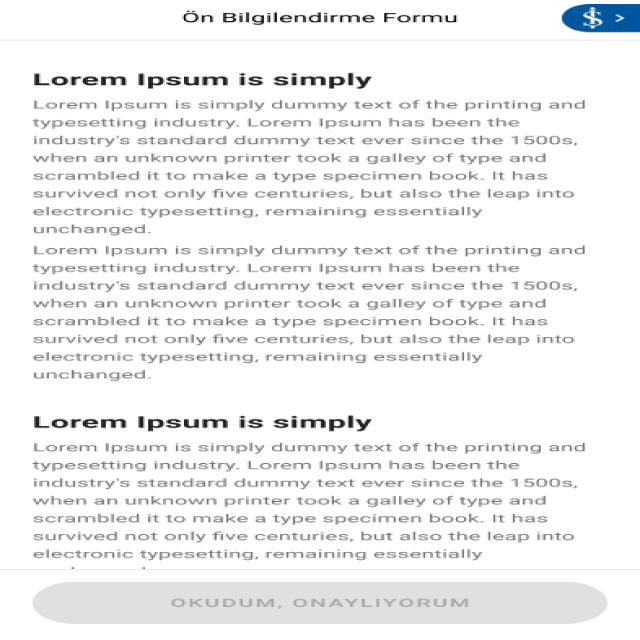QLabel: (16, 243, 595, 389), (17, 98, 595, 237), (21, 437, 584, 564), (24, 72, 377, 90), (23, 414, 374, 432), (172, 10, 458, 26), (164, 597, 478, 609)
VAppBar: (0, 0, 639, 40)
VBtn: (35, 580, 606, 626)
VFooter: (0, 569, 637, 636)
VImg: (560, 3, 638, 33)
